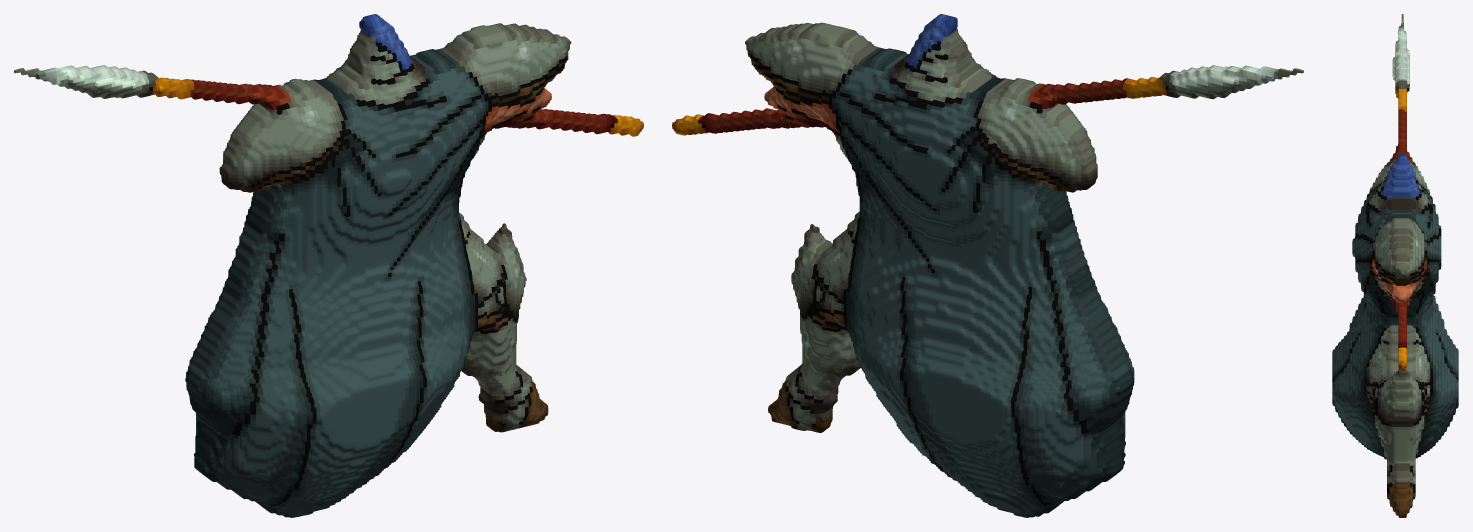
File: Fight_737_1_02.obj
3 views of the same model, side by side, from view 1: azimuth 30°, elevation 25°; view 2: azimuth 150°, elevation 25°; view 3: azimuth 270°, elevation 25° (orthographic). The views are drawn at different scales.
Size of the model in its own units: 17.36 by 13.38 by 4.4.
1 material, 1 textured.
